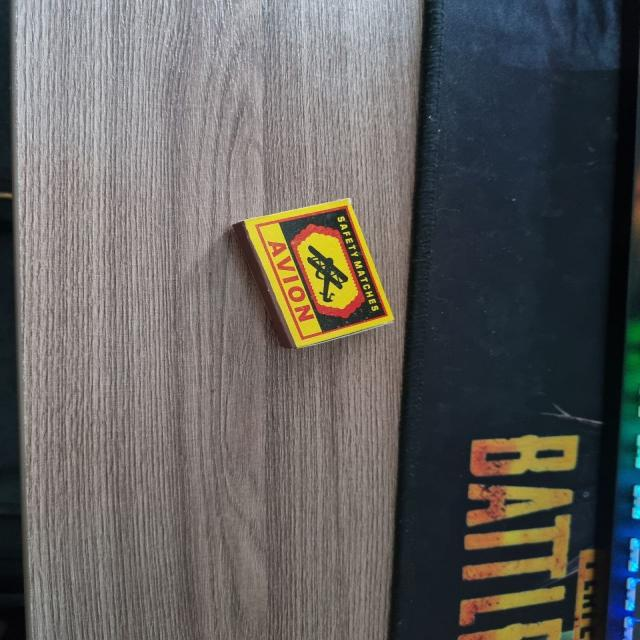match: (227, 195, 397, 351)
